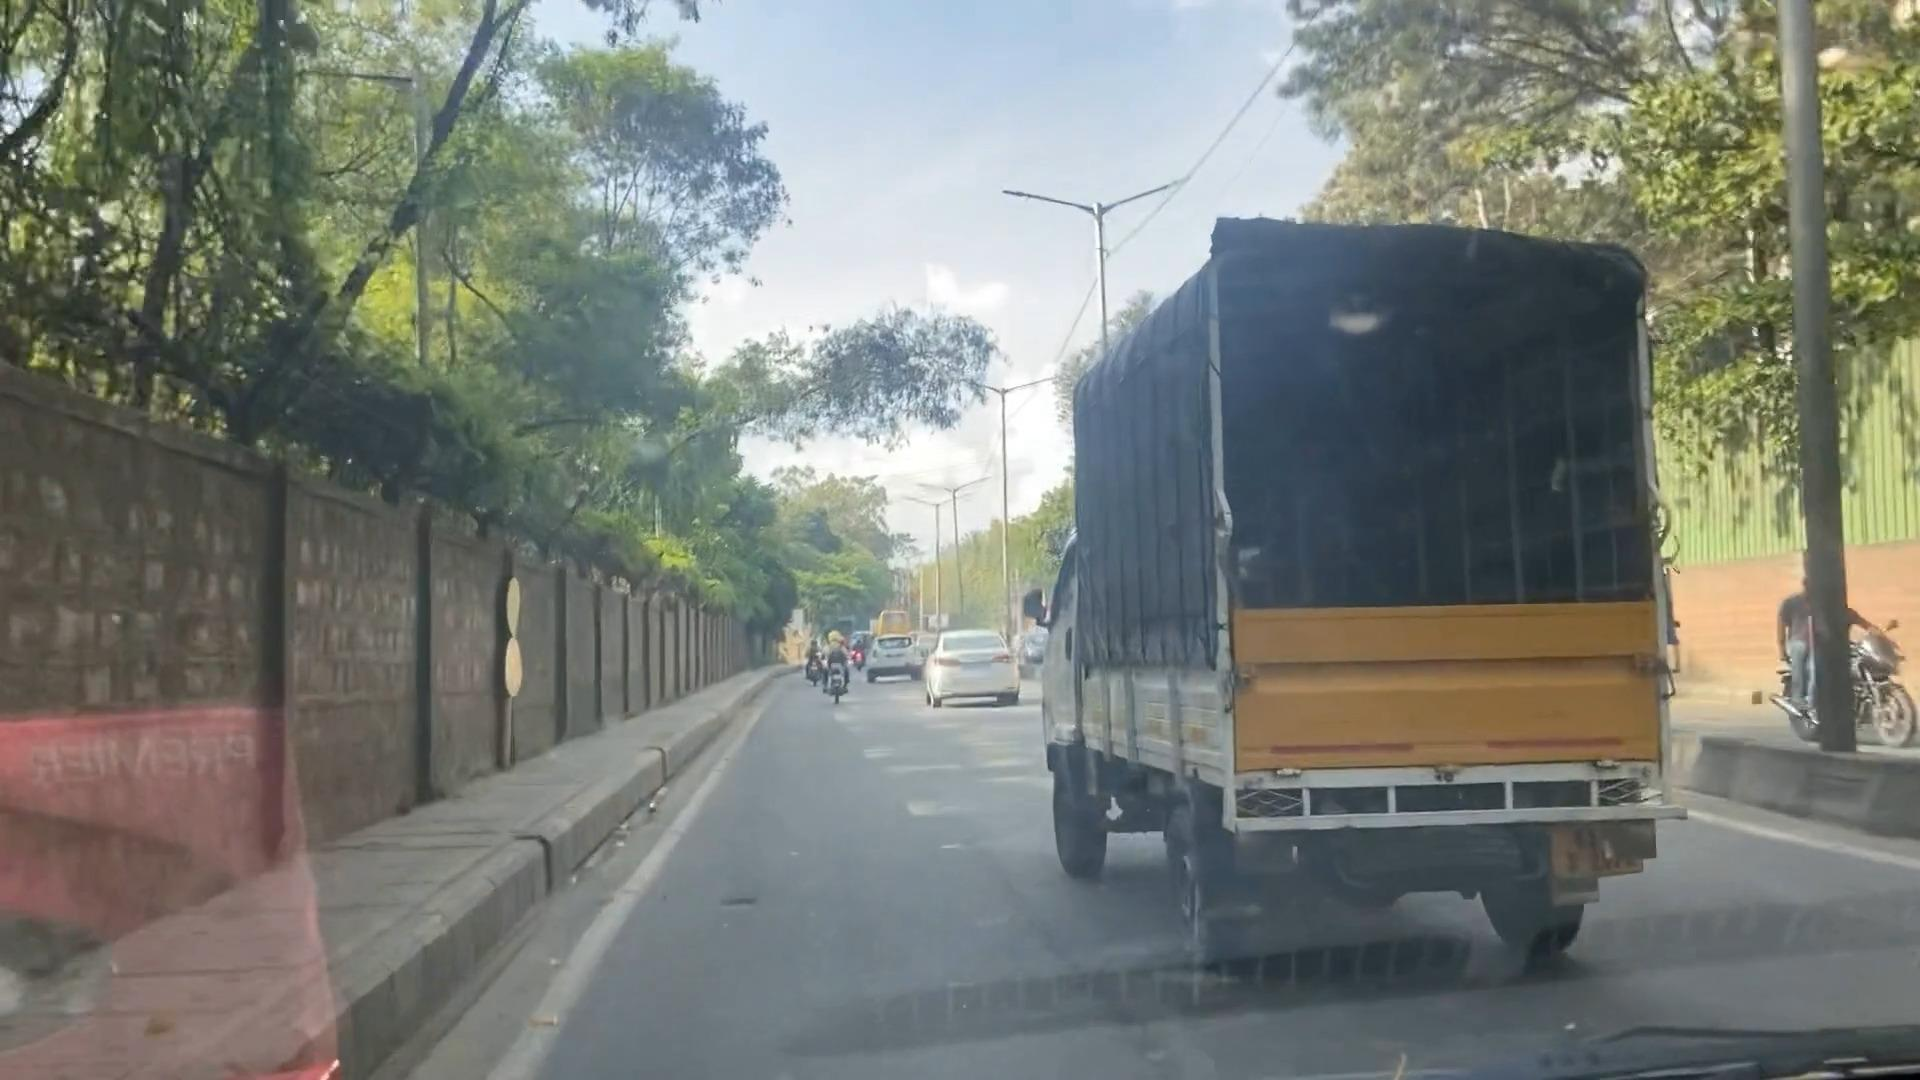HMV: (1033, 189, 1718, 1001)
